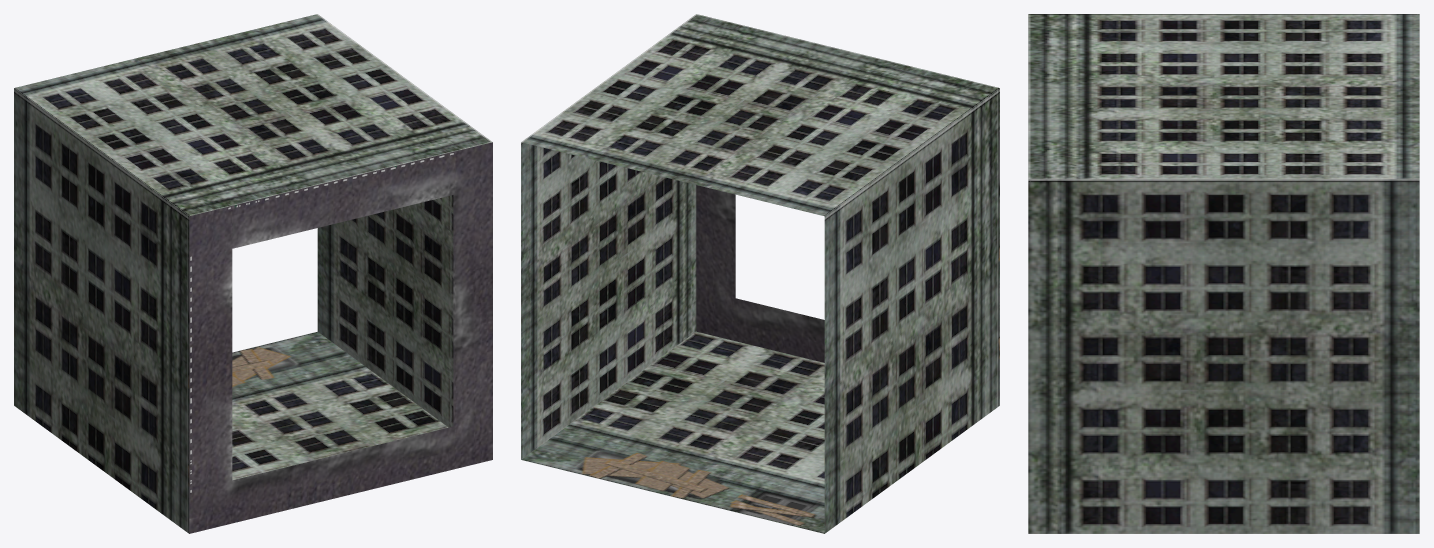
The model's file is building4x4x4a_wtf.obj.
The picture shows the model from 3 angles, left to right: view 1: azimuth 30°, elevation 25°; view 2: azimuth 150°, elevation 25°; view 3: azimuth 270°, elevation 25°; orthographic projection. The views are drawn at different scales.
Parts seen in each view (by area): view 1: group7, group6, group4, group5, group3; view 2: group7, group6, group5, group3, group4; view 3: group5, group6.
Part boxes in pixels (<box>): group7: <box>14,88,189,533</box>; group6: <box>14,14,492,216</box>; group4: <box>189,142,492,533</box>; group5: <box>317,195,453,427</box>; group3: <box>232,331,448,480</box>; group7: <box>824,88,999,533</box>; group6: <box>521,14,999,216</box>; group5: <box>521,142,696,459</box>; group3: <box>521,331,824,533</box>; group4: <box>696,185,824,362</box>; group5: <box>1028,179,1419,533</box>; group6: <box>1028,14,1419,179</box>.
Bounding box in the file's own units: 660 × 660 × 660.
